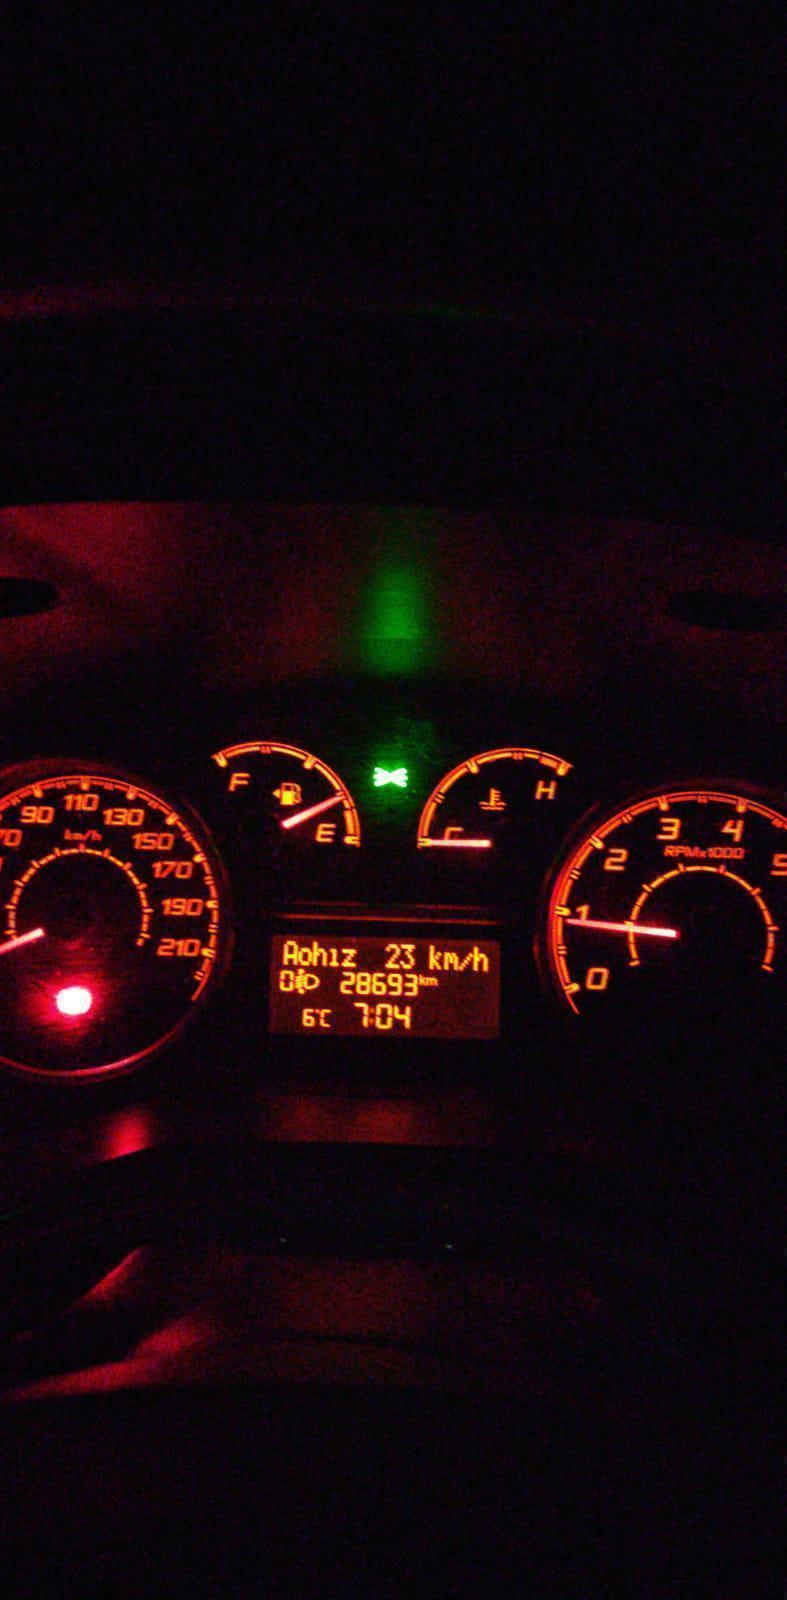0: (376, 1002, 393, 1030), (278, 969, 293, 992)
2: (383, 941, 399, 970), (339, 971, 355, 995)
3: (401, 942, 416, 971), (404, 973, 417, 997)
4: (393, 1004, 411, 1029)
6: (372, 971, 386, 997), (300, 1007, 314, 1028)
7: (352, 1001, 368, 1028)
8: (356, 971, 370, 995)
9: (387, 971, 402, 998)
X: (473, 944, 488, 973), (341, 946, 361, 967), (312, 939, 327, 967), (282, 939, 297, 964), (443, 949, 460, 971), (428, 943, 442, 969), (319, 1007, 334, 1031), (459, 949, 472, 970), (298, 946, 311, 964), (328, 946, 338, 967), (425, 976, 437, 988), (368, 1005, 374, 1026), (419, 973, 425, 986)
odometer: (269, 933, 503, 1041)
